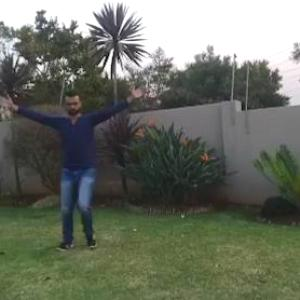takeoff: (1, 84, 150, 250)
